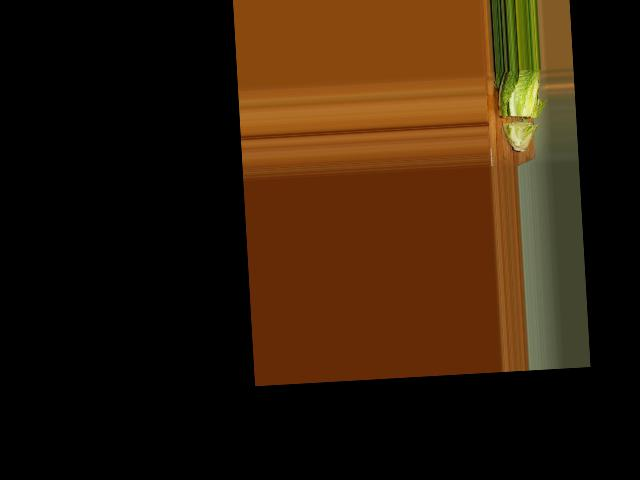lettuce: (491, 70, 546, 152)
